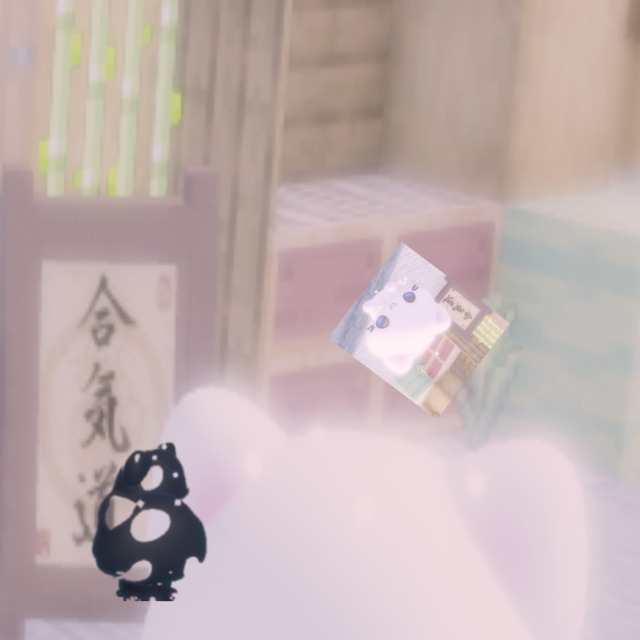urso_branco: (328, 241, 510, 420)
urso_preto: (86, 431, 219, 602)
